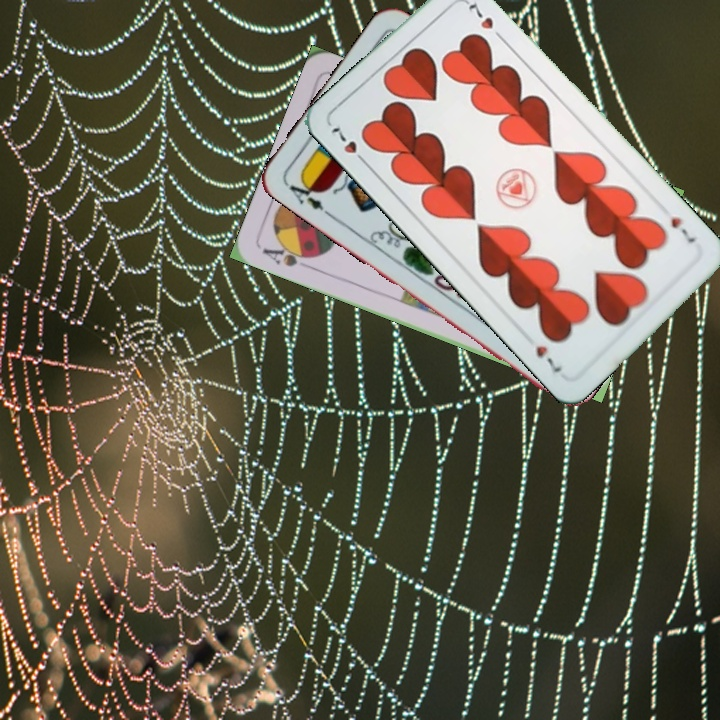EA: (282, 174, 334, 220)
H7: (326, 123, 372, 169), (666, 211, 698, 246)
SA: (258, 238, 319, 272)
